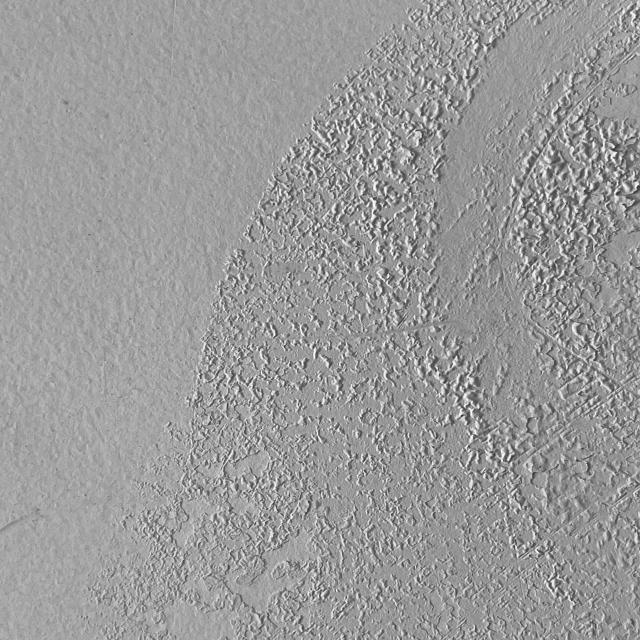rough and patchy surface: (73, 0, 640, 638)
